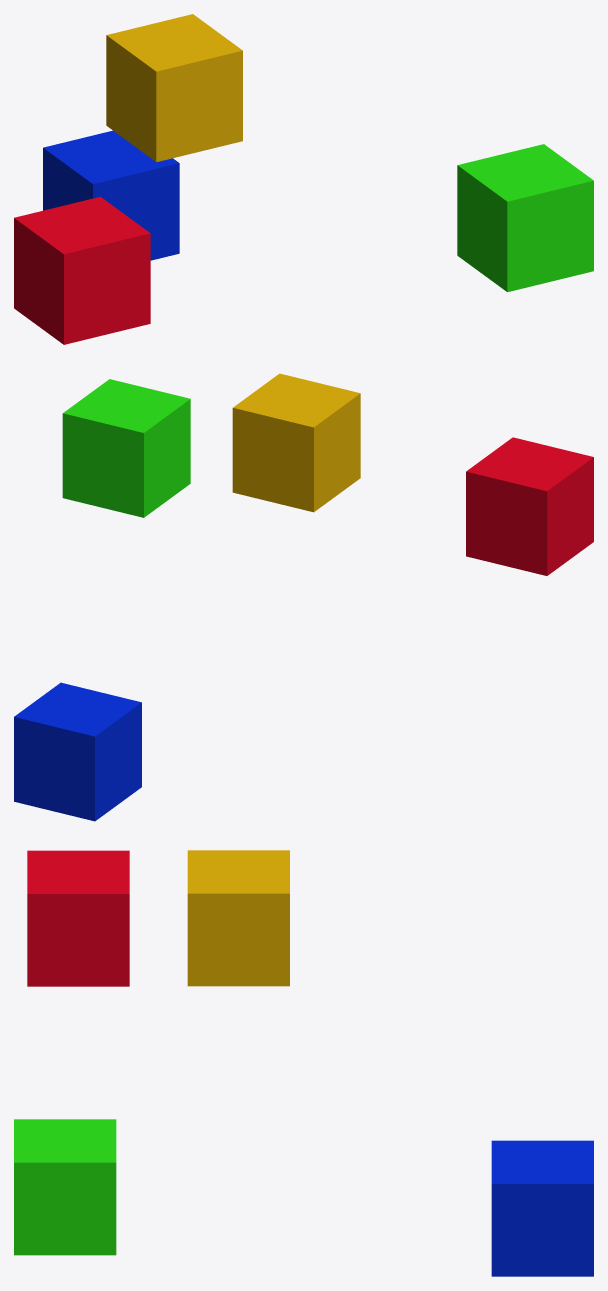
The model's file is modconv_disconnected_materials.fbx.
The picture shows the model from 3 angles, top to bottom: view 1: azimuth 30°, elevation 25°; view 2: azimuth 150°, elevation 25°; view 3: azimuth 270°, elevation 25°; orthographic projection. The views are drawn at different scales.
Visible parts, largest first — view 1: Cube.002; view 2: Cube.002; view 3: Cube.002.
Boxes of the visible parts, <box> form: Cube.002: <box>14,14,593,344</box>; Cube.002: <box>14,373,593,821</box>; Cube.002: <box>14,850,593,1276</box>.
Size of the model in its own units: 1210 by 734 by 1134.
